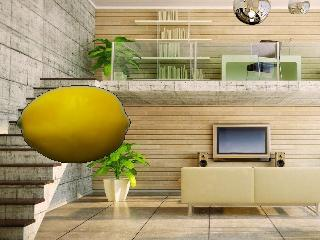lemon: (17, 86, 132, 164)
